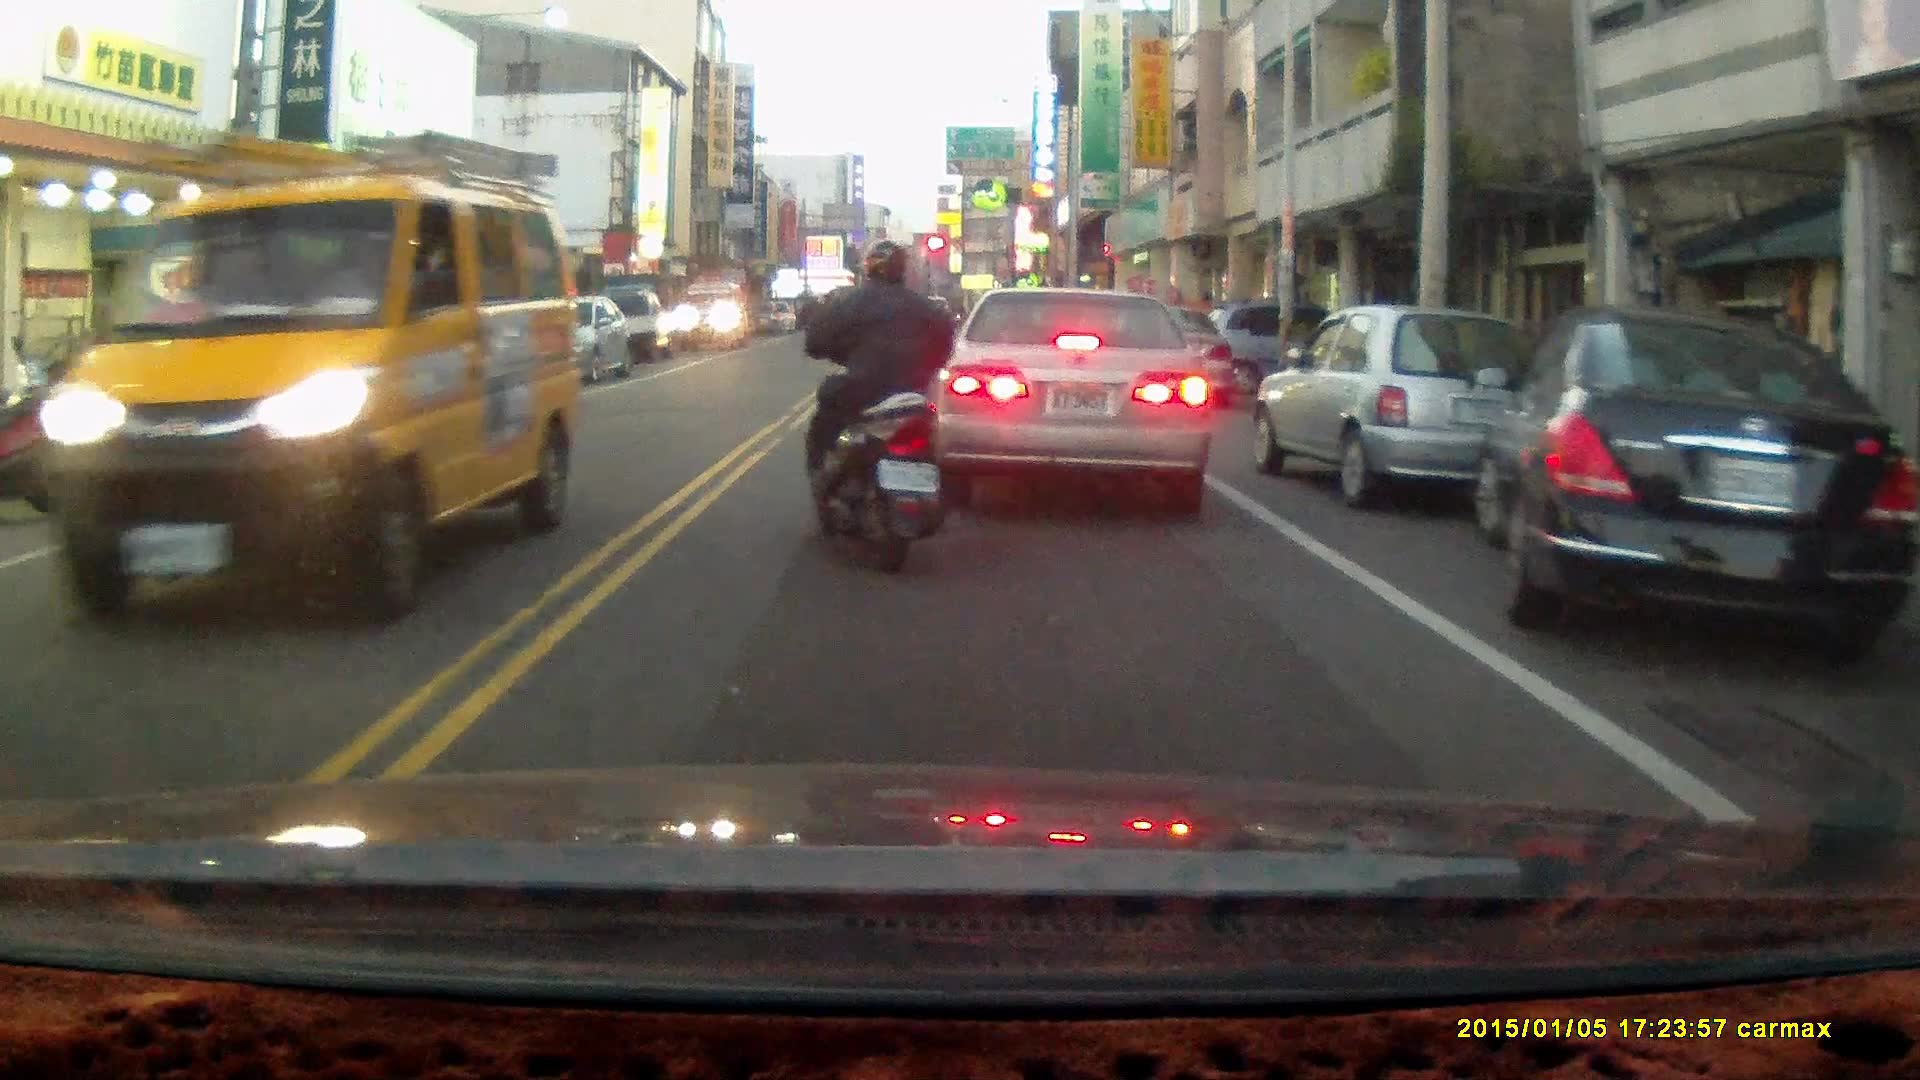rider: (800, 234, 957, 574)
vehicle: (40, 114, 550, 677), (1467, 304, 1903, 672), (932, 281, 1216, 506), (1247, 301, 1535, 510), (678, 270, 757, 340)
